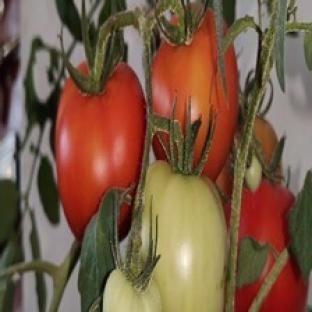Tomato: (56, 63, 146, 240), (152, 10, 238, 181), (143, 161, 227, 311), (239, 179, 295, 252), (102, 269, 161, 311), (254, 116, 278, 172), (254, 116, 278, 164)
